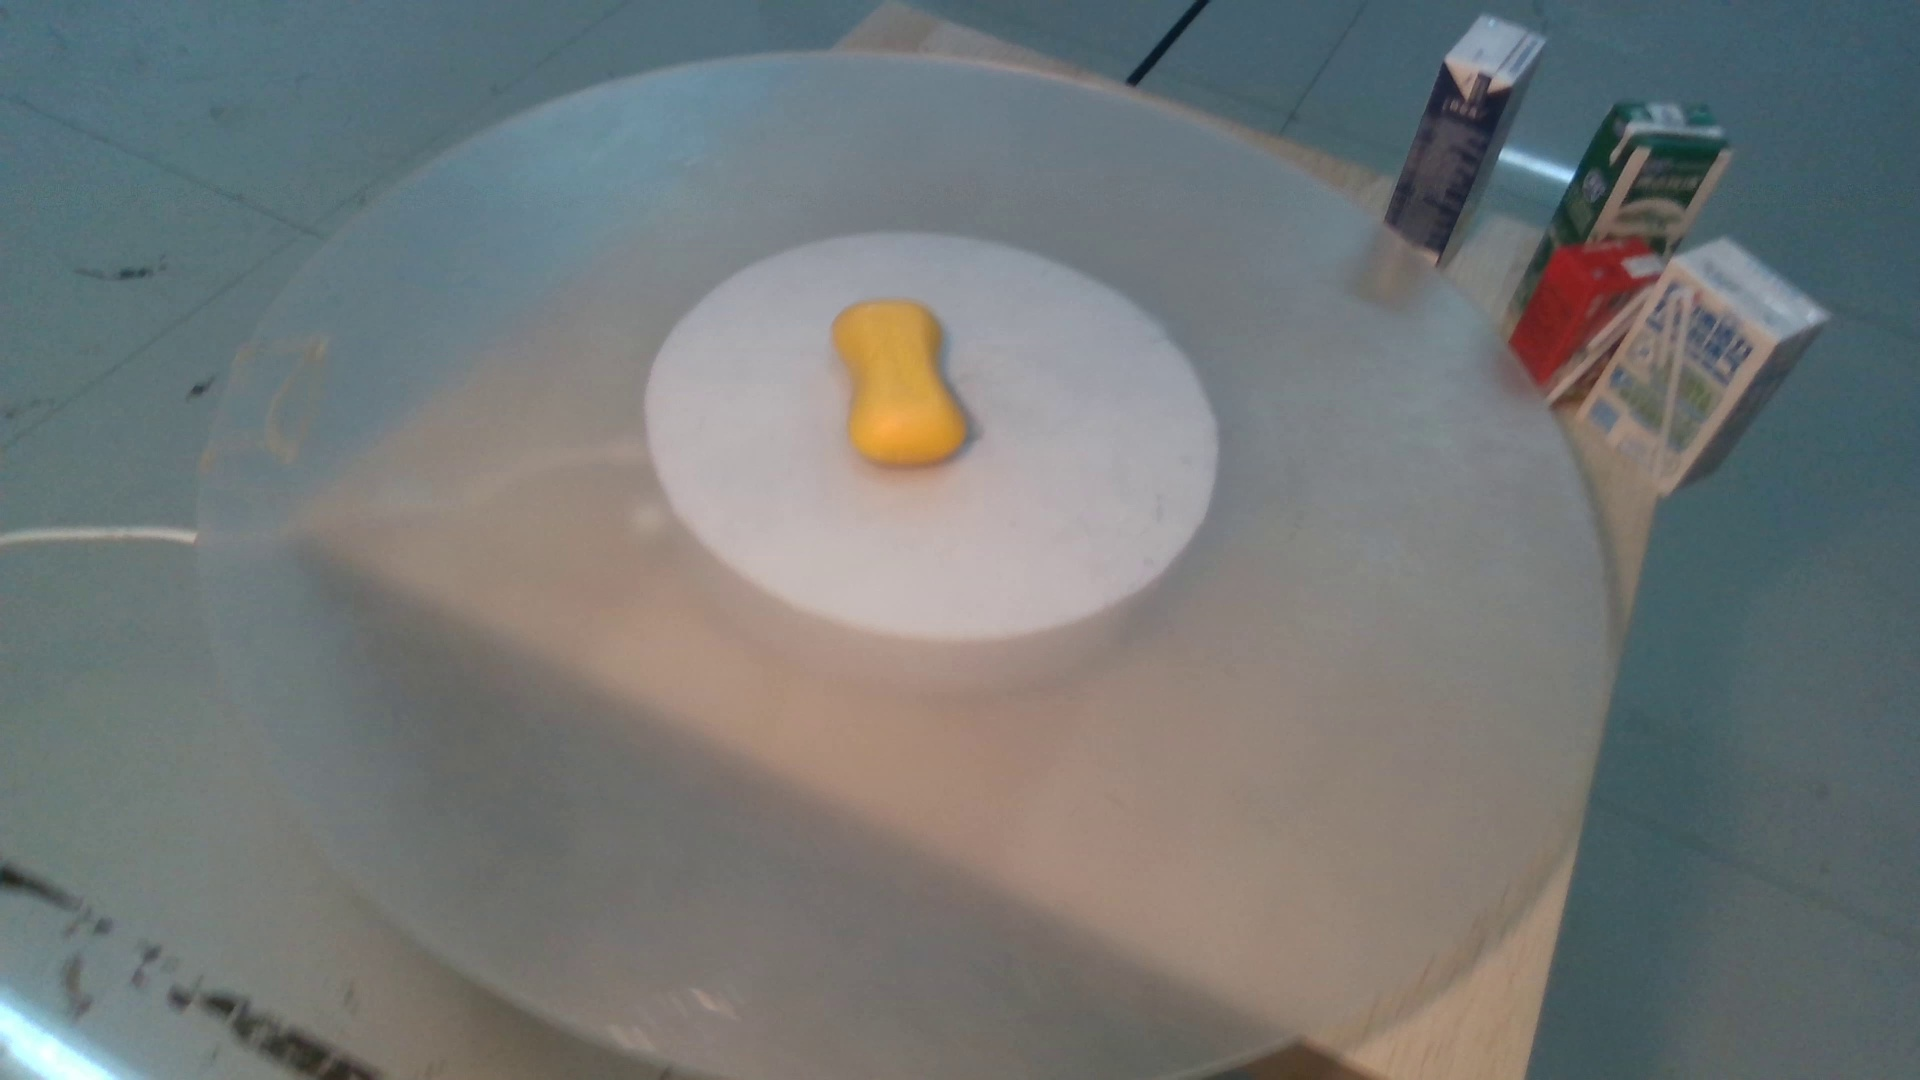CA003_1: (808, 285, 1009, 491)
